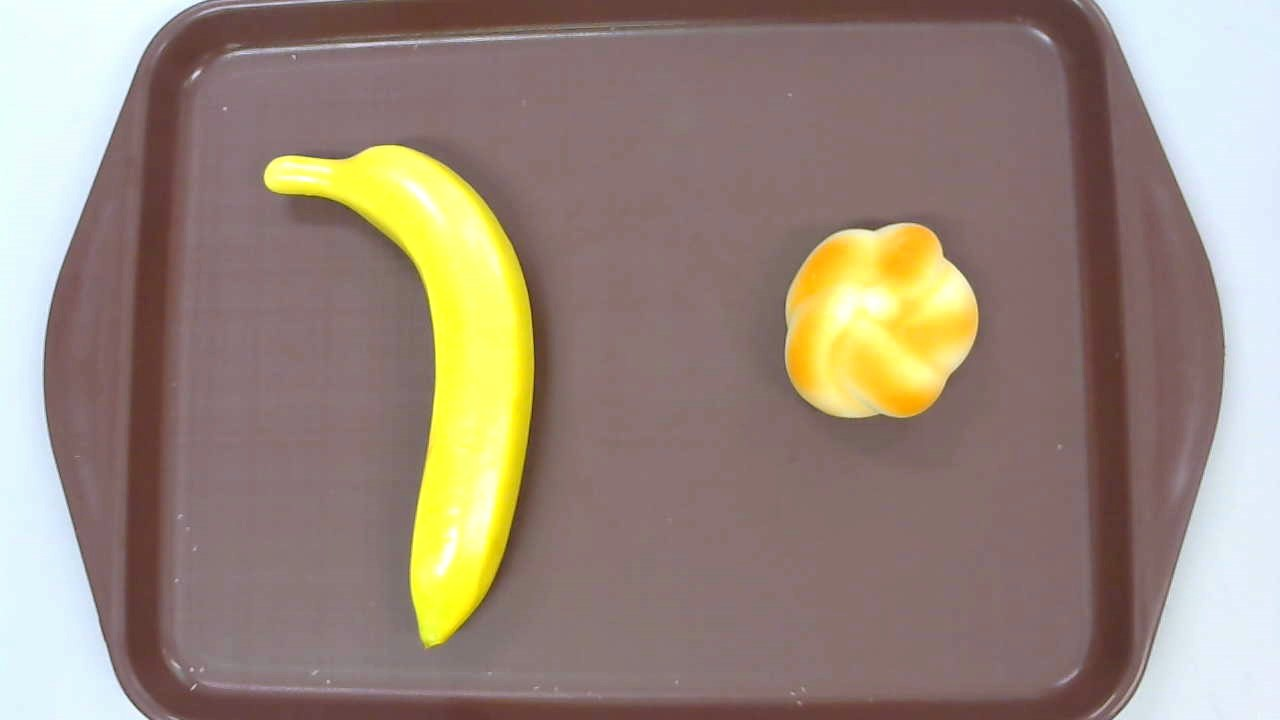banana: (263, 143, 535, 651)
twist bread: (785, 222, 978, 420)
